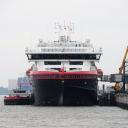cruises: (24, 21, 107, 109)
